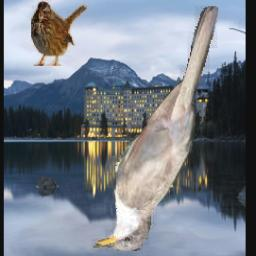Cuckoo: (92, 6, 218, 251)
Sparrow: (30, 1, 88, 67)
